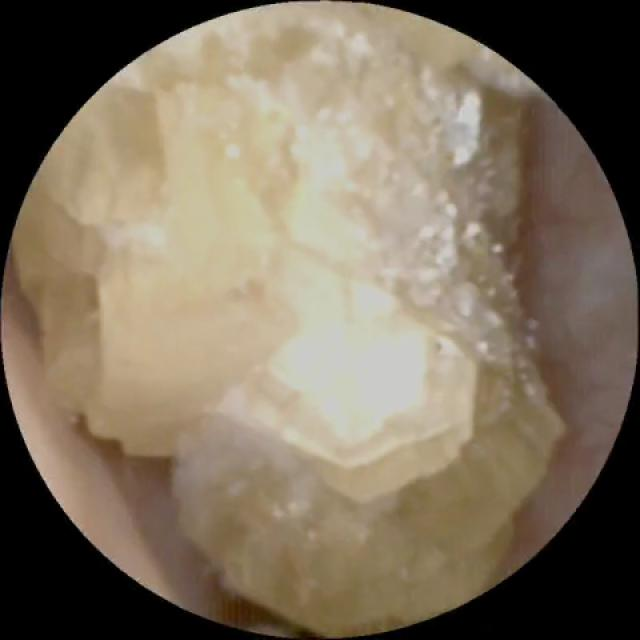stone: (14, 10, 564, 633)
